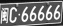C: (9, 7, 17, 23)
